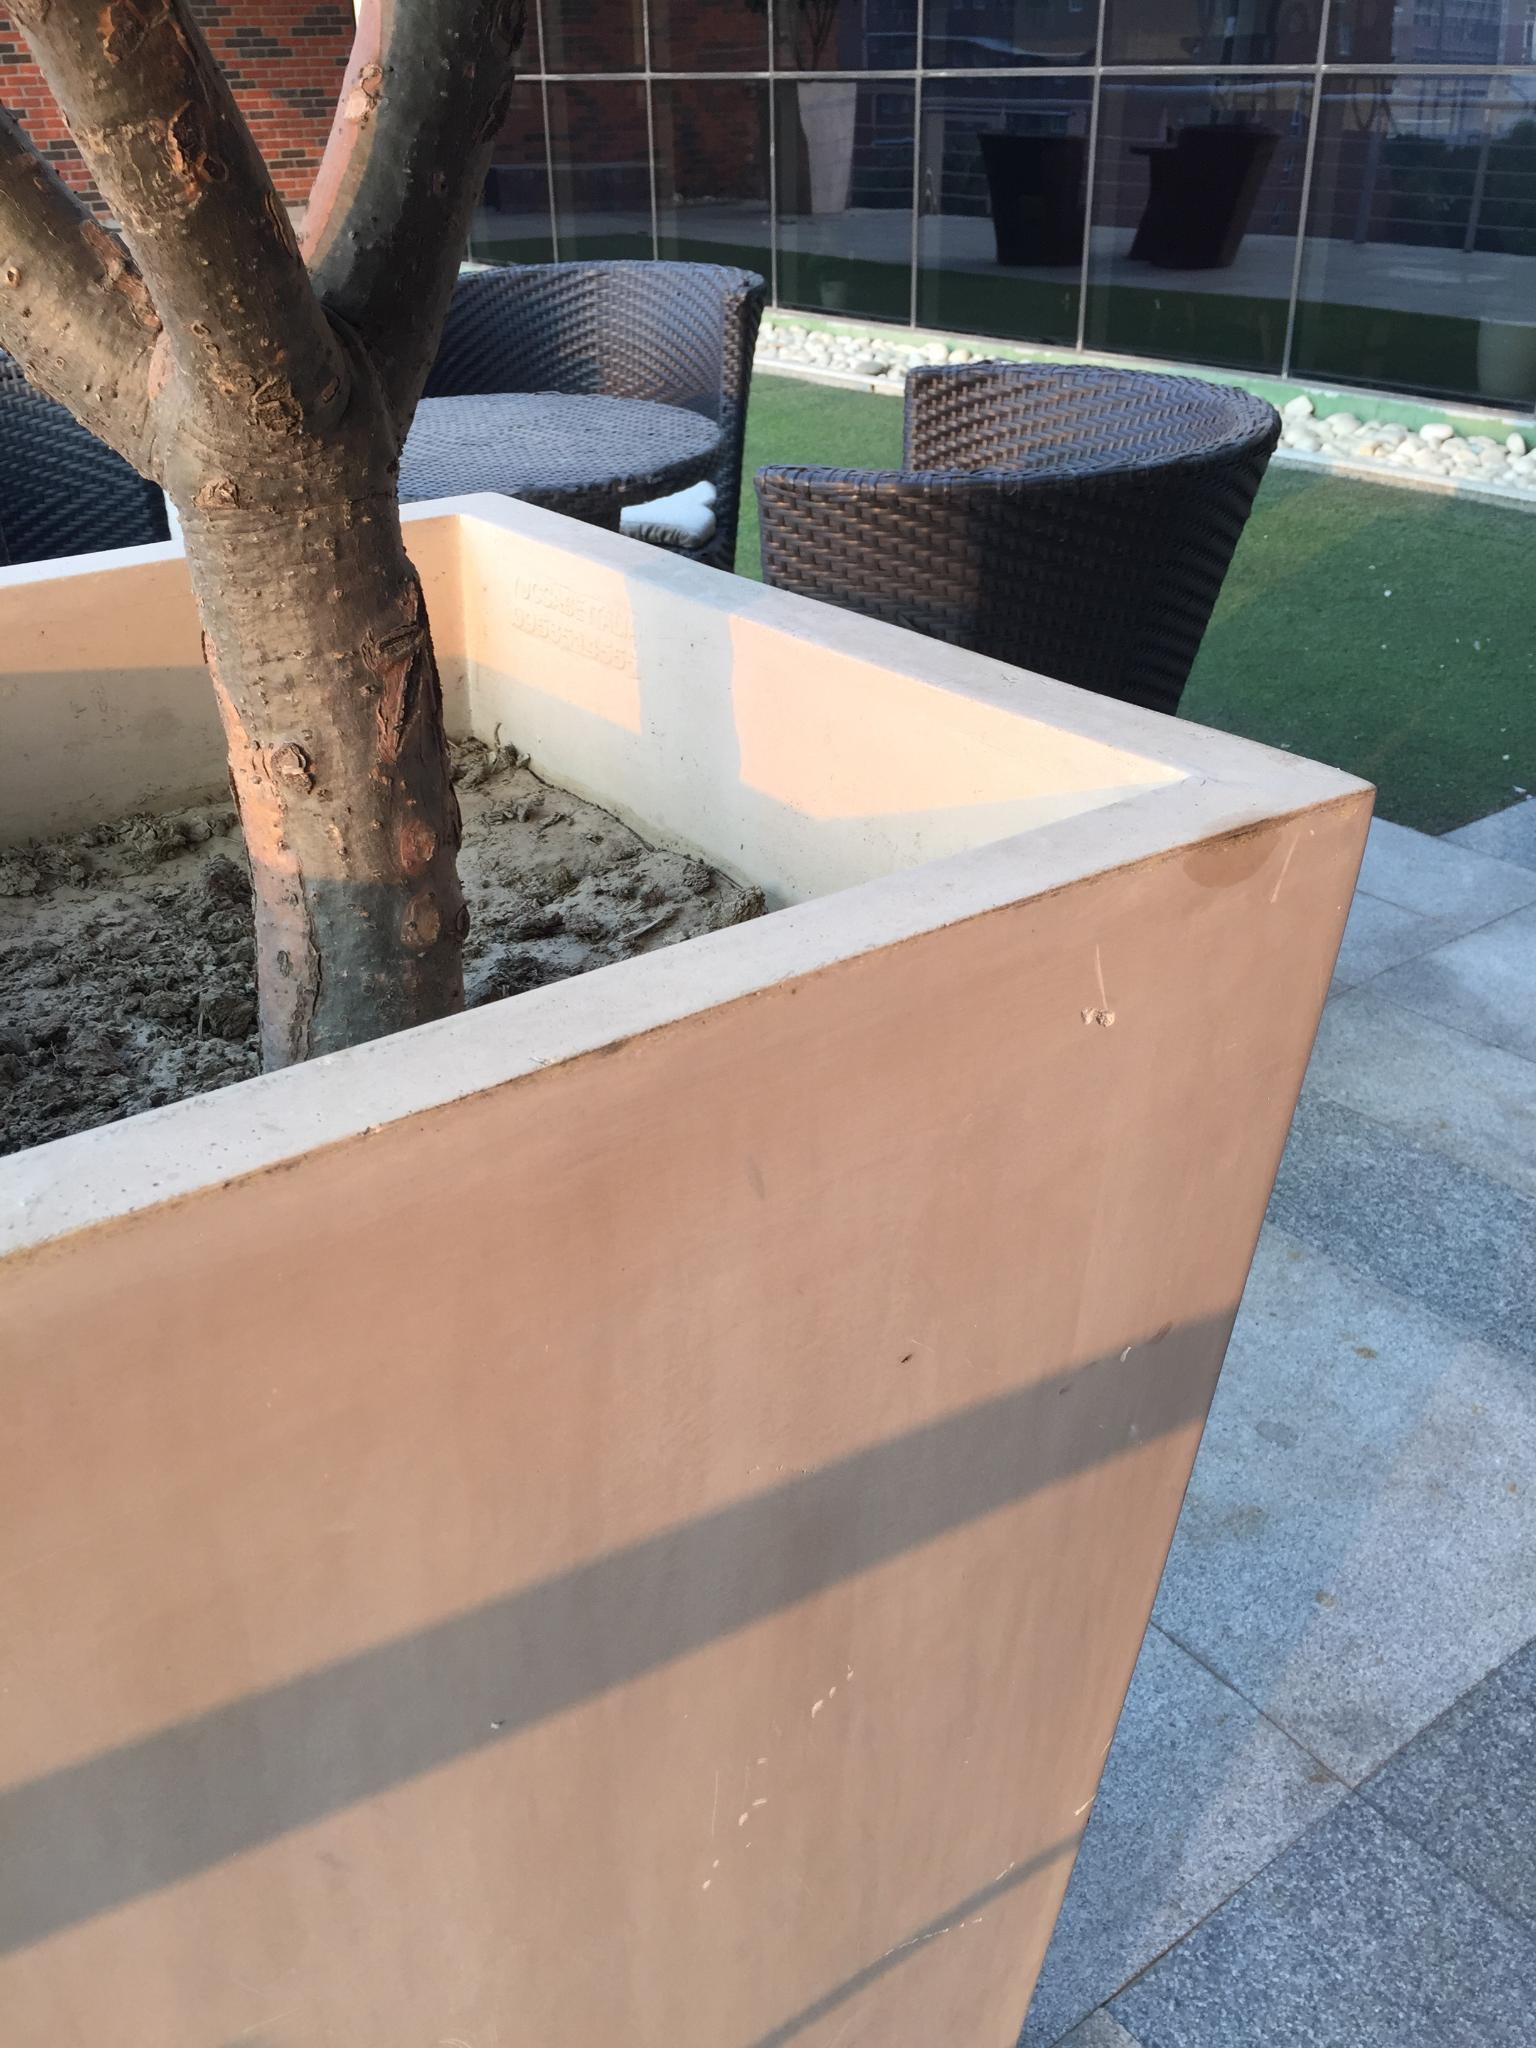chair: (755, 358, 1281, 718), (394, 256, 766, 572)
